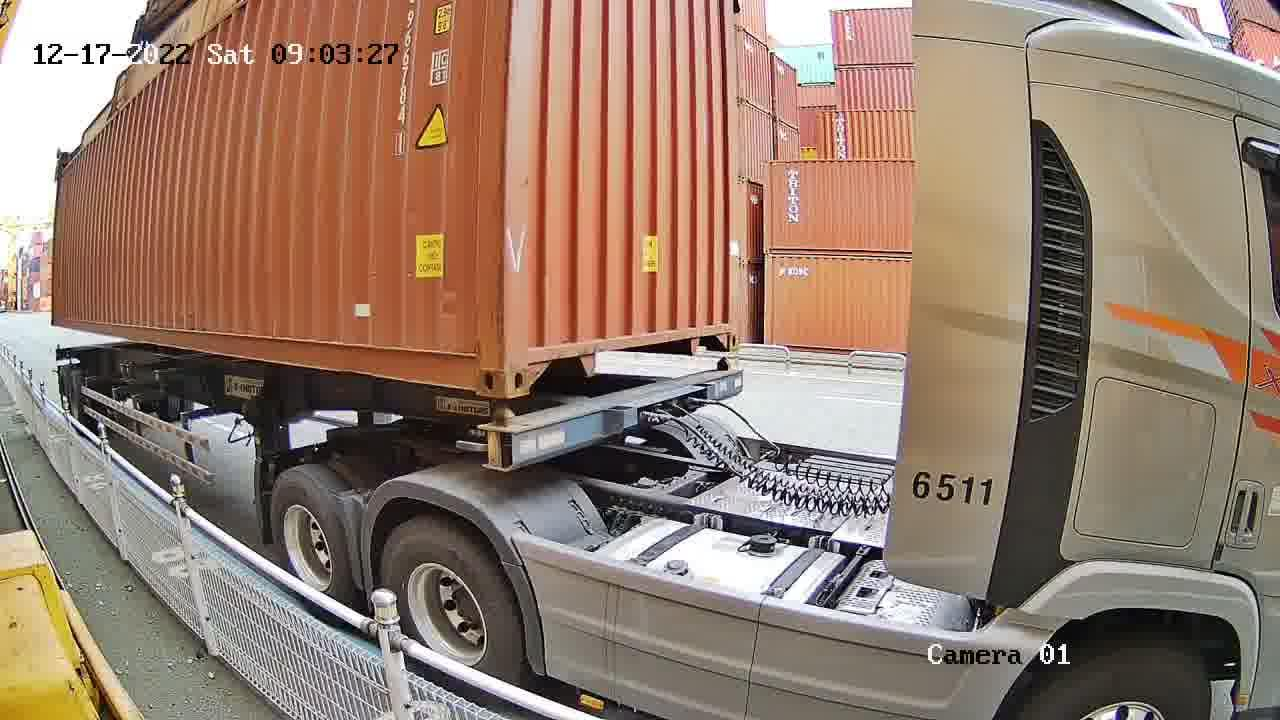Chassis: (514, 366, 745, 471)
Cone: (479, 430, 515, 470)
Container: (502, 307, 743, 399)
Hole_L: (504, 327, 550, 399)
Hole_R: (452, 327, 508, 399), (716, 309, 743, 352)
Tire: (372, 527, 525, 681), (273, 474, 349, 600)
